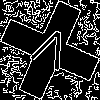V: (25, 25, 74, 80)
